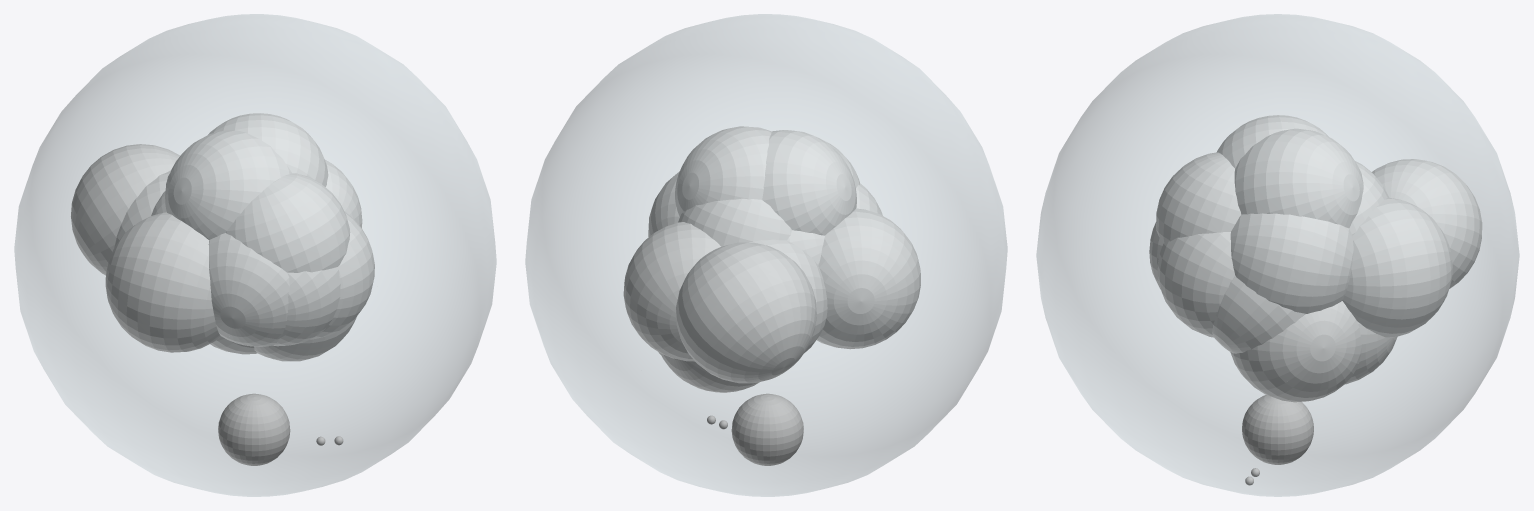
The model's file is ball-collision-4-1.gltf.
3 views of the same model, side by side, from view 1: azimuth 30°, elevation 25°; view 2: azimuth 150°, elevation 25°; view 3: azimuth 270°, elevation 25° (orthographic).
Parts seen in each view (by area): view 1: Dom, particle.015, particle.007, particle.011, particle.005, particle.000, Ball, particle.008, particle.003, particle.014, particle.012, particle.013 (+1 smaller); view 2: Dom, particle.000, particle.015, particle.007, particle.009, particle.003, Ball, particle.002, particle.013, particle.006, particle.010, particle.001; view 3: Dom, particle.009, particle.010, particle.003, particle.012, particle.000, particle.014, particle.011, Ball, particle.016, particle.007, particle.006 (+1 smaller).
Part boxes in pixels (box(x1,y1,x2,y2)): Dom: box(14, 14, 496, 496); particle.015: box(105, 212, 220, 352); particle.007: box(164, 130, 291, 239); particle.011: box(226, 173, 350, 272); particle.005: box(208, 233, 289, 346); particle.000: box(71, 144, 179, 275); Ball: box(218, 393, 290, 465); particle.008: box(272, 267, 340, 346); particle.003: box(208, 113, 328, 186); particle.014: box(310, 211, 374, 339); particle.012: box(254, 316, 356, 361); particle.013: box(114, 170, 171, 247); Dom: box(525, 14, 1007, 496); particle.000: box(676, 242, 816, 383); particle.015: box(816, 208, 920, 349); particle.007: box(762, 130, 856, 235); particle.009: box(623, 222, 720, 361); particle.003: box(675, 126, 771, 216); Ball: box(731, 393, 803, 465); particle.002: box(678, 198, 791, 246); particle.013: box(747, 239, 827, 353); particle.006: box(660, 353, 759, 392); particle.010: box(648, 171, 679, 236); particle.001: box(787, 230, 824, 265); Dom: box(1036, 14, 1519, 496); particle.009: box(1342, 197, 1452, 337); particle.010: box(1230, 213, 1353, 313); particle.003: box(1234, 128, 1363, 228); particle.012: box(1230, 301, 1361, 402); particle.000: box(1372, 159, 1482, 288); particle.014: box(1157, 232, 1234, 337); particle.011: box(1156, 152, 1241, 243); Ball: box(1242, 395, 1313, 464); particle.016: box(1212, 275, 1305, 353); particle.007: box(1216, 115, 1328, 168); particle.006: box(1345, 321, 1397, 384).
Bounding box in the file's own units: 6.83 × 6.83 × 6.83.
